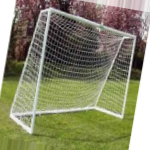goals: (13, 6, 136, 138)
